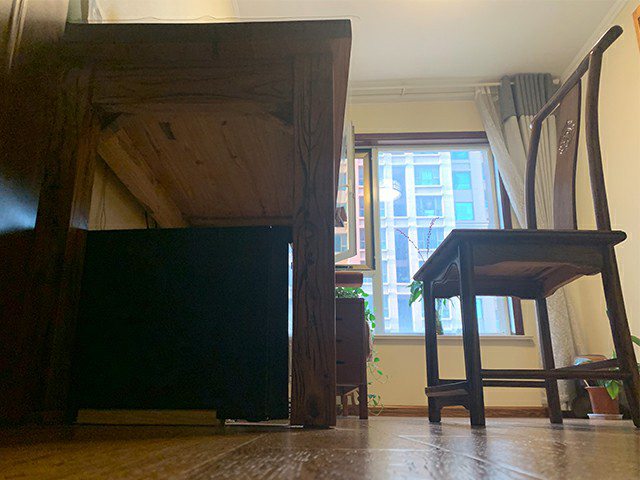curtain: (474, 71, 586, 412)
sofa: (335, 269, 374, 420)
stool: (412, 24, 640, 433)
table: (12, 18, 352, 430)
